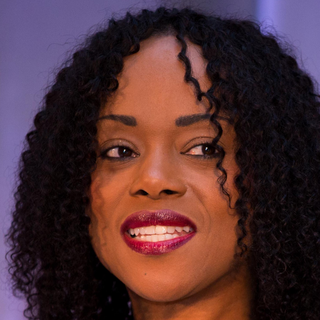eye: (98, 139, 140, 165), (182, 136, 223, 162)
